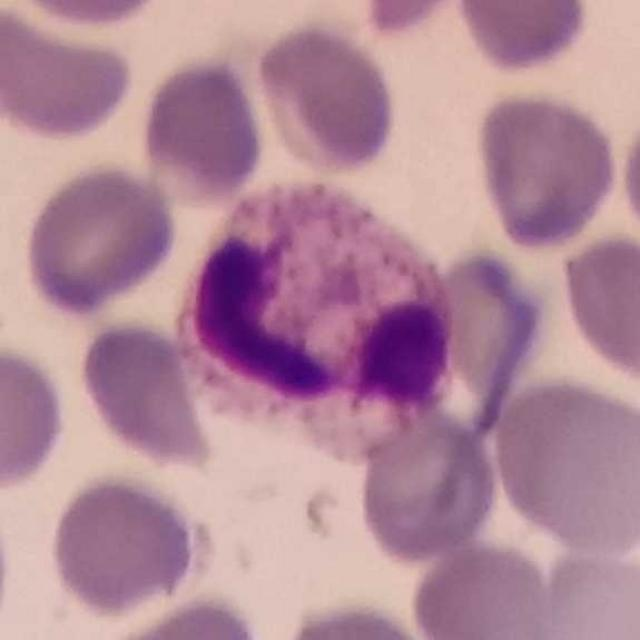Neutrophil: (174, 167, 462, 465)
RBC: (382, 243, 554, 445), (488, 372, 640, 556), (19, 159, 182, 318), (470, 87, 621, 254), (251, 15, 402, 179), (353, 406, 503, 569), (44, 470, 206, 620), (74, 315, 217, 473), (136, 52, 269, 204), (0, 1, 139, 145), (407, 536, 561, 640), (556, 229, 640, 392), (0, 339, 72, 496), (453, 0, 593, 78), (530, 547, 640, 640), (89, 591, 268, 640), (274, 596, 442, 640), (335, 0, 481, 41), (5, 0, 176, 31), (615, 98, 640, 261)
